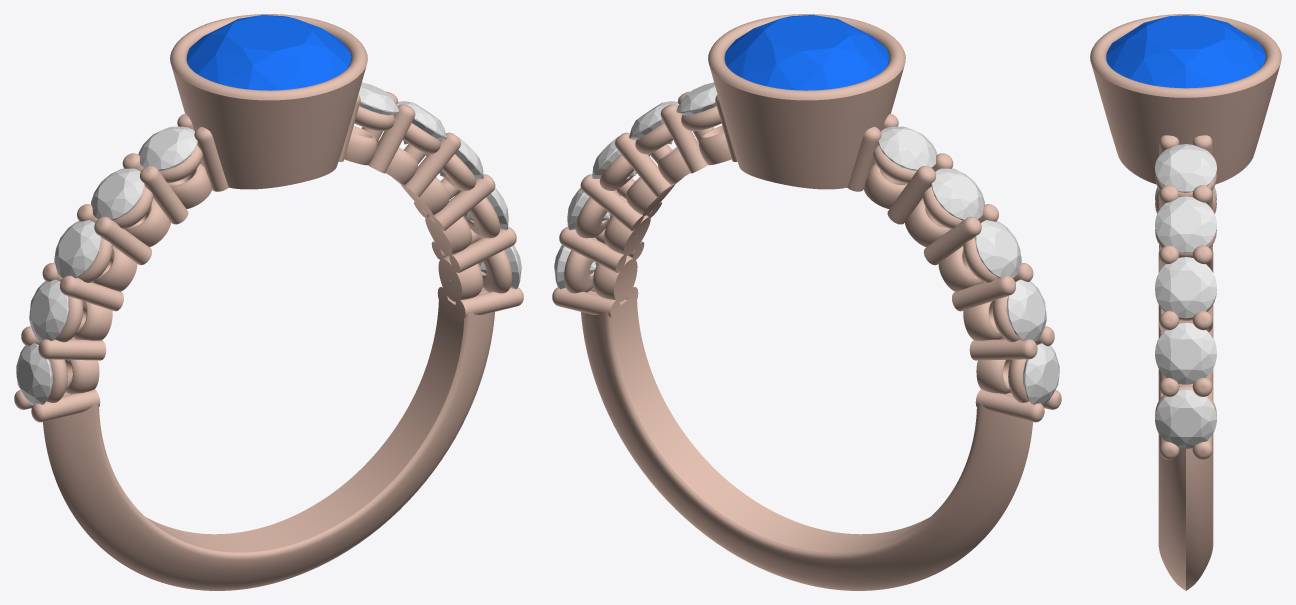
The model's file is bluesapphire-round-rosegold-bezelset-knifeedge-11stone.glb.
3 renders of one model, left to right at view 1: azimuth 30°, elevation 25°; view 2: azimuth 150°, elevation 25°; view 3: azimuth 270°, elevation 25°, orthographic. The views are drawn at different scales.
Parts seen in each view (by area): view 1: metal, stone, side.001, side.002, side, side.003, side.004, side.005, side.006; view 2: metal, stone, side.001, side.002, side, side.003, side.004, side.005, side.006; view 3: metal, stone, side.008, side.007, side.009, side.006, side.005.
Part boxes in pixels (x1,y1,x2,y2): metal: (14,14,523,590); stone: (186,15,351,90); side.001: (91,168,144,220); side.002: (54,220,100,278); side: (138,126,197,170); side.003: (29,279,69,341); side.004: (16,343,52,405); side.005: (358,82,399,115); side.006: (396,101,446,144); metal: (552,14,1061,590); stone: (724,15,889,90); side.001: (931,168,984,220); side.002: (975,220,1021,278); side: (878,126,937,170); side.003: (1006,279,1046,341); side.004: (1023,343,1059,405); side.005: (676,82,717,115); side.006: (629,101,679,144); metal: (1090,14,1281,590); stone: (1106,15,1265,88); side.008: (1155,323,1216,384); side.007: (1155,257,1216,318); side.009: (1155,389,1216,448); side.006: (1155,196,1216,253); side.005: (1155,144,1216,192).
Bounding box in the file's own units: 22.19 × 23.81 × 7.74.
